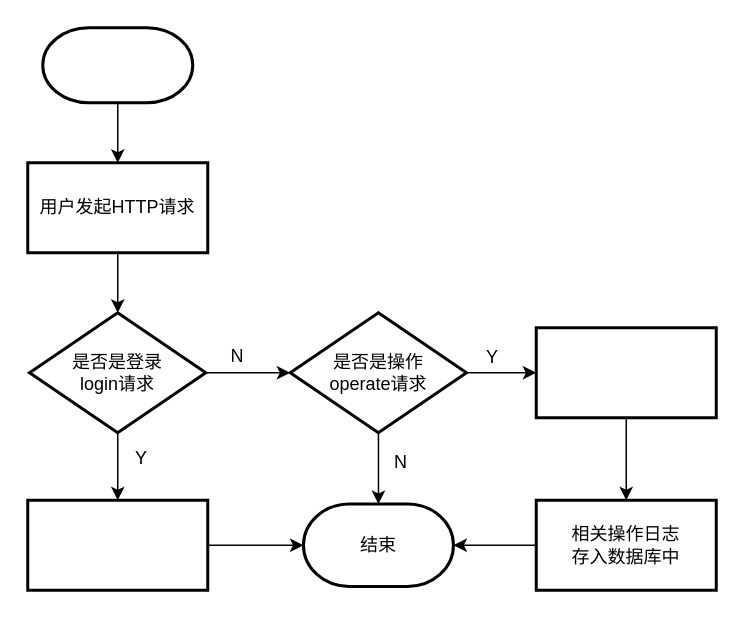
Some shapes in this 743 by 617 pixel diagram are drawn without their labels. Each missing label, with the centre of its shape:
"基于AOP切面 使用@log 注解" goes at point 625,372.
"开始" goes at point 117,65.
"登录日志存入 数据库中" goes at point 117,544.
